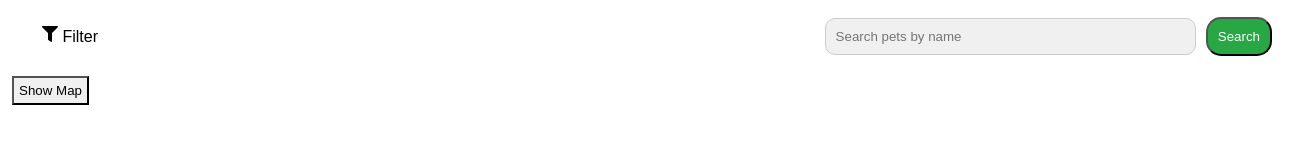
Scenario: <PetListings /> › should clear search input when clear button is clicked
In the field with placeholder "Search pets by name": (1010, 36) [825,18,1196,54], type "Fido"
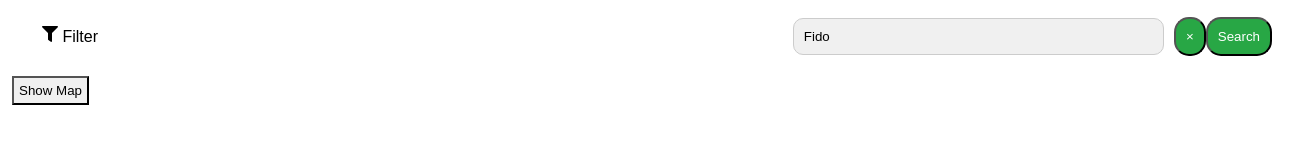
Click the button "×": (1190, 36) [1174,16,1206,56]
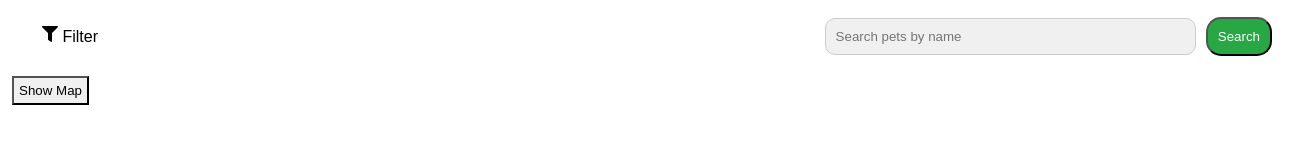
expect the field with placeholder "Search pets by name" is empty: met, box [825,18,1196,54]
